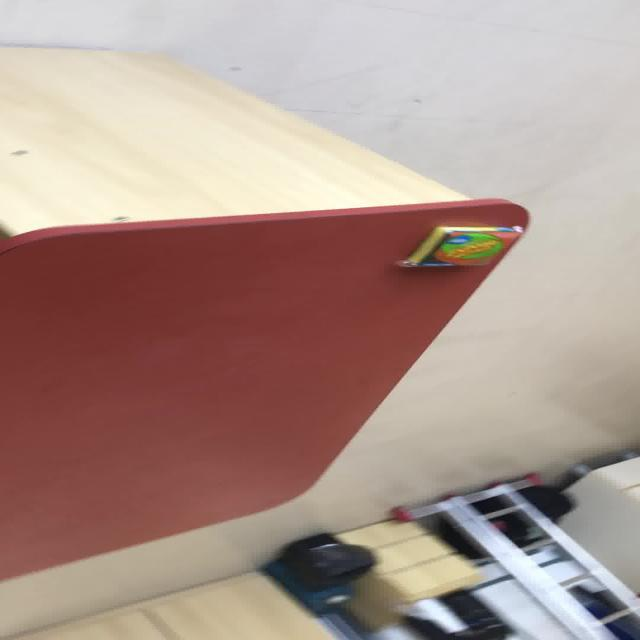sponge: (402, 225, 522, 266)
